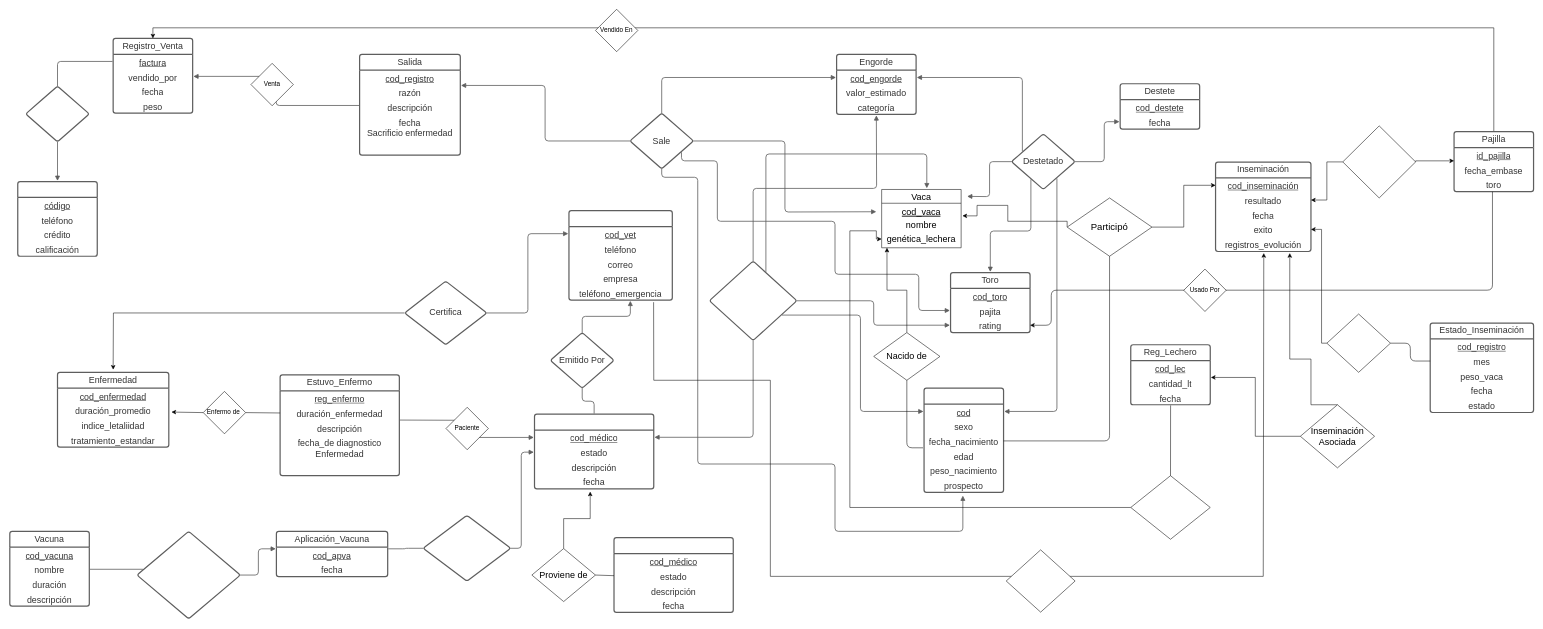
The diagram is 1543 pixels wide and 629 high, and some of its shapes have lost their labels. Each missing label, with the box of its shape:
Cliente: (17, 181, 98, 257)
Empleado en: (1342, 125, 1416, 198)
Historial_Médico: (709, 260, 797, 341)
Pertenece a: (1130, 475, 1210, 539)
Realizó: (1006, 549, 1075, 612)
Registra: (1326, 313, 1390, 372)
Registrada: (422, 515, 511, 582)
Registro_Alimenticio: (613, 537, 734, 613)
Registro_Médico: (534, 413, 654, 489)
Ternero: (923, 387, 1004, 493)
Usada En: (136, 530, 241, 619)
Vendido A: (25, 85, 90, 142)
Veterinario: (568, 210, 673, 301)
